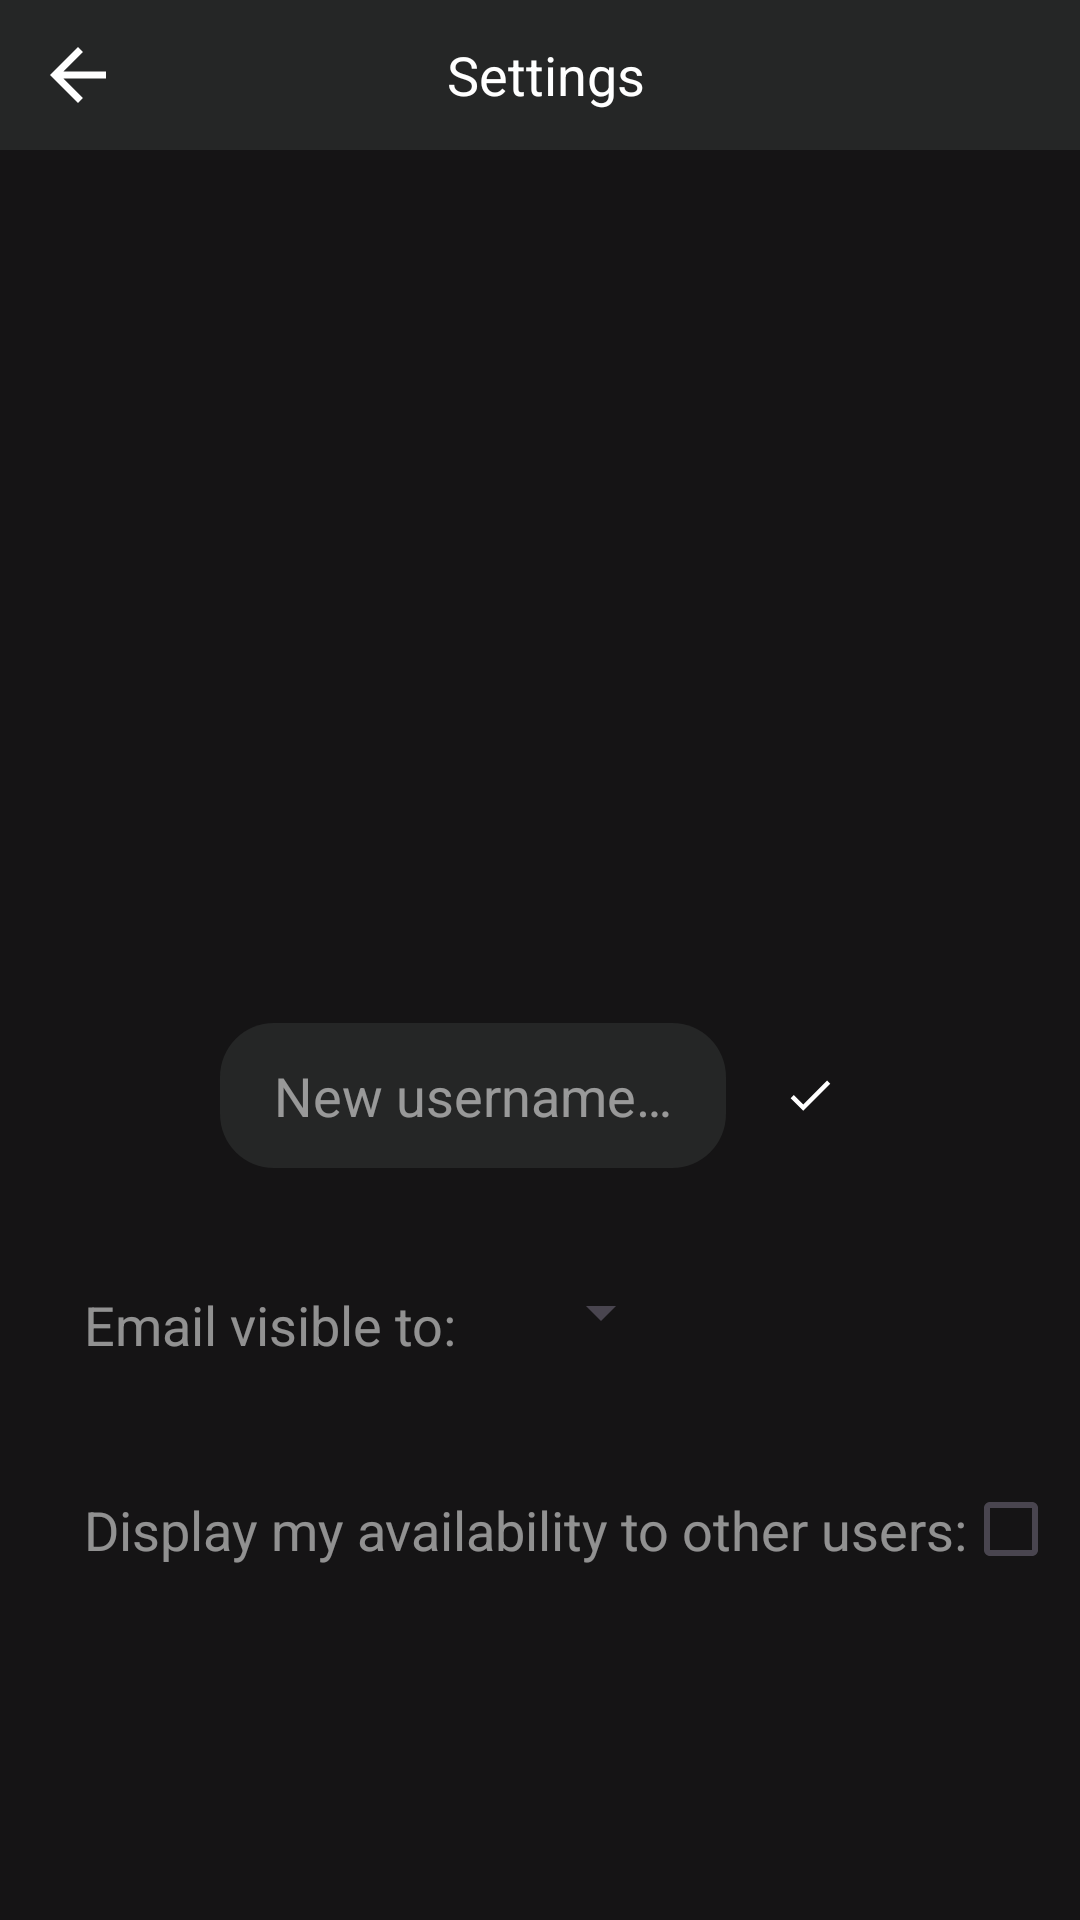

Point at icon controls on the screen. Image size 1080px x 1920px, points as (x=x, y=y).
Back button: (x=78, y=75)
done: (x=810, y=1095)
